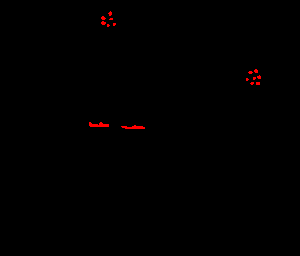Target: (89, 122, 109, 127), (121, 125, 145, 129), (108, 11, 112, 16), (101, 16, 106, 20), (101, 21, 106, 25), (254, 69, 258, 73), (257, 75, 261, 79), (248, 71, 253, 74), (250, 82, 254, 85), (256, 82, 260, 85), (113, 23, 116, 26), (107, 24, 110, 27), (253, 77, 256, 80), (246, 78, 249, 81), (109, 18, 113, 20)
